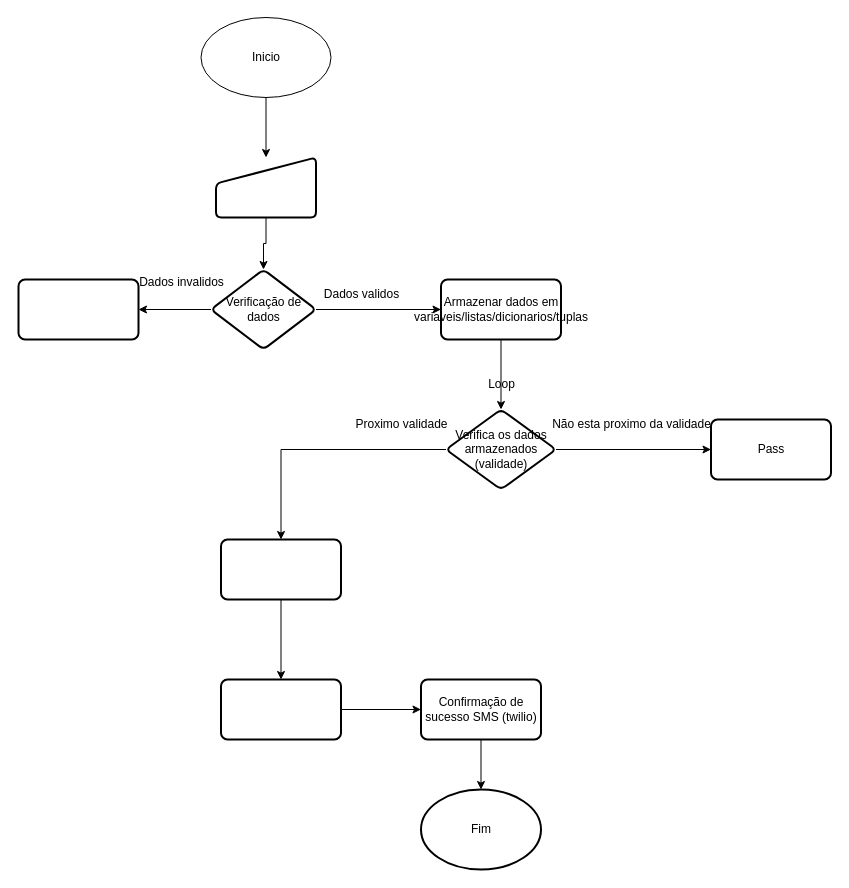
The diagram is 849 pixels wide and 888 high, and some of its shapes have lost their labels. The centre of each missing label's shape, as x and y in pixels:
Cria dataframe com os itens para coleta: pixel 281 569
Dados de usuario: pixel 265 187
Parar código com mensagens de possiveis erros: pixel 78 309
Transforma em xlsx: pixel 281 709
